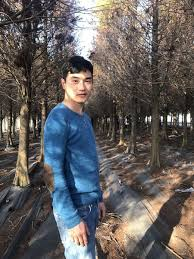people: (45, 56, 100, 259)
